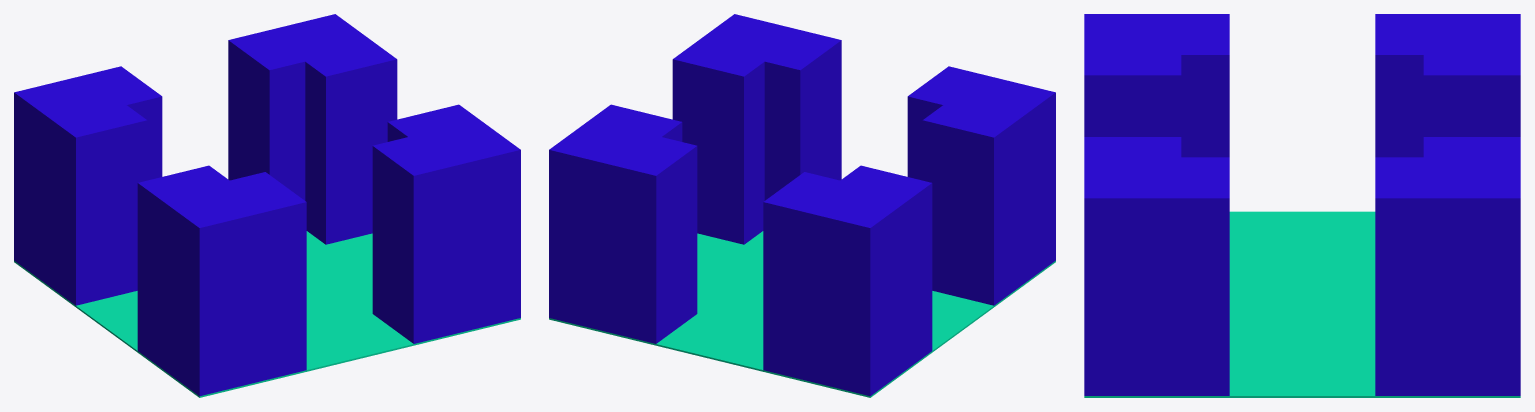
Rendered from Block4.glb.
3 renders of one model, left to right at view 1: azimuth 30°, elevation 25°; view 2: azimuth 150°, elevation 25°; view 3: azimuth 270°, elevation 25°, orthographic. The views are drawn at different scales.
Parts seen in each view (by area): view 1: 4Way; view 2: 4Way; view 3: 4Way.
Part boxes in pixels (box(x1,y1,x2,y2)): 4Way: box(14, 14, 520, 397); 4Way: box(549, 14, 1055, 397); 4Way: box(1084, 14, 1520, 397).
Size of the model in its own units: 2 by 1.01 by 2.
